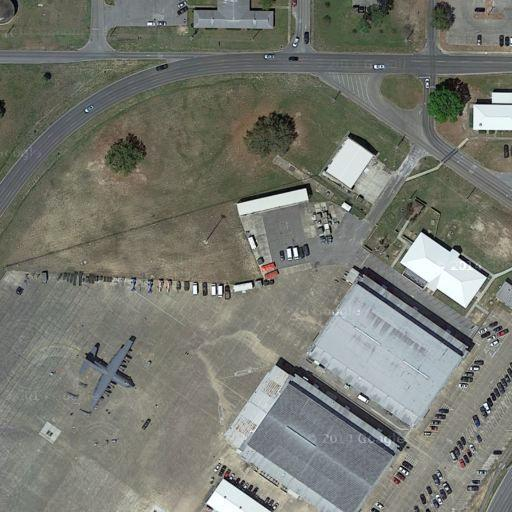C-130: (71, 335, 138, 409)
